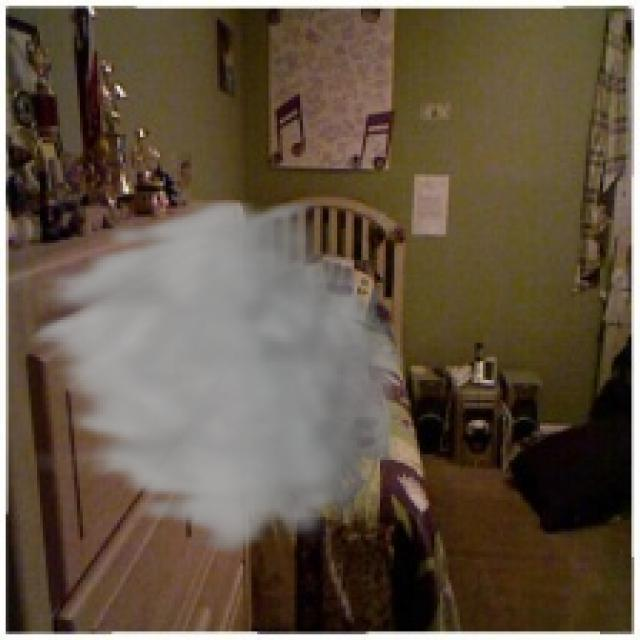Smoke: (11, 195, 412, 560)
